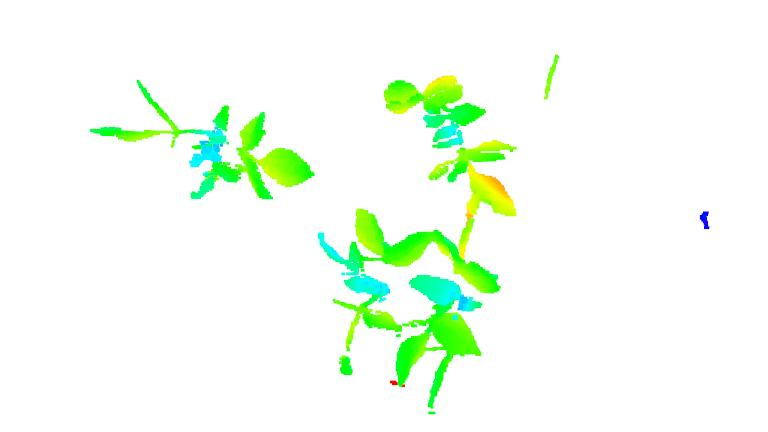mungbean: (88, 78, 318, 204), (393, 216, 501, 412), (379, 72, 520, 217), (315, 207, 400, 377)
